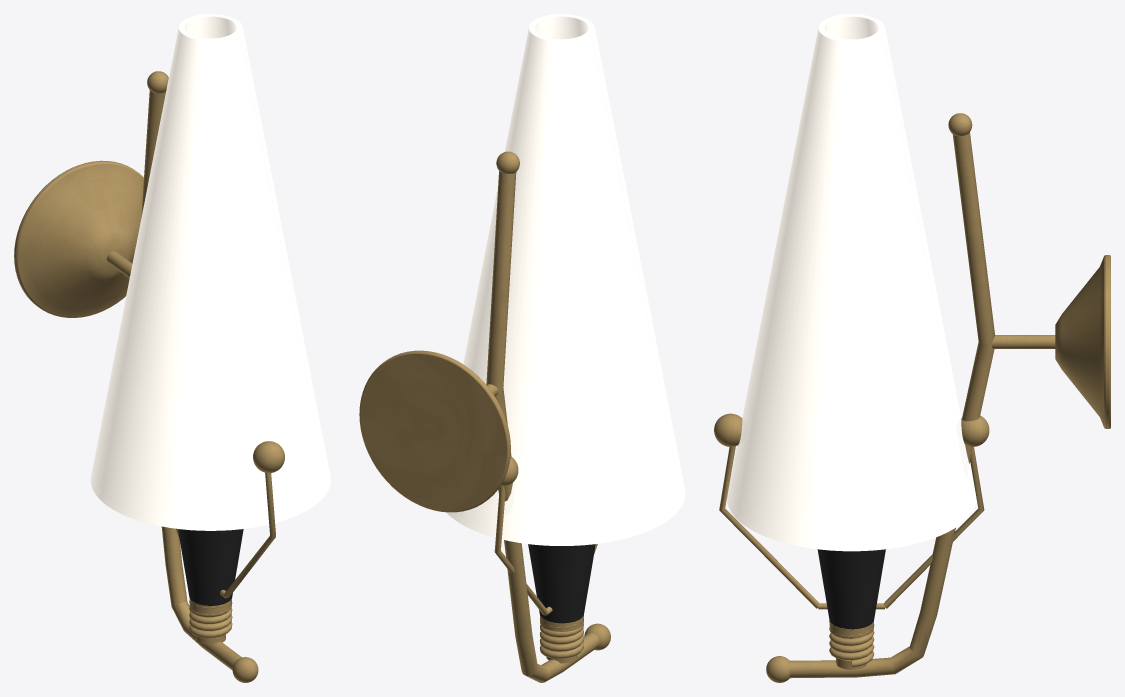
File: cone-wall-light-vintage-style-glass-ambient-wall-sconce.glb
3 views of the same model, side by side, from view 1: azimuth 30°, elevation 25°; view 2: azimuth 150°, elevation 25°; view 3: azimuth 270°, elevation 25° (orthographic). The views are drawn at different scales.
Parts seen in each view (by area): view 1: ConeGlass, Rose, Socket, Arm, Spring, WireFront, BallFront, FootBall; view 2: ConeGlass, Rose, Arm, Socket, Spring, WireBack; view 3: ConeGlass, Arm, Rose, Socket, WireFront, Spring, WireBack, Stud, BallFront, BallBack.
Boxes of the visible parts, box(x1,y1,x2,y2) form: ConeGlass: box(90, 14, 330, 530); Rose: box(14, 160, 143, 317); Socket: box(178, 529, 243, 605); Arm: box(141, 90, 241, 670); Spring: box(189, 599, 232, 637); WireFront: box(224, 472, 275, 598); BallFront: box(253, 441, 284, 472); FootBall: box(232, 657, 258, 682); ConeGlass: box(446, 14, 685, 545); Rose: box(359, 350, 510, 512); Arm: box(486, 171, 599, 682); Socket: box(528, 544, 595, 623); Spring: box(539, 617, 583, 658); WireBack: box(494, 486, 547, 615); ConeGlass: box(727, 14, 976, 551); Arm: box(790, 132, 994, 678); Rose: box(1055, 255, 1110, 428); Socket: box(817, 549, 885, 629); WireFront: box(719, 446, 819, 608); Spring: box(829, 621, 874, 667); WireBack: box(883, 447, 984, 608); Stud: box(992, 335, 1055, 348); BallFront: box(714, 413, 742, 446); BallBack: box(961, 415, 989, 446).
Bounding box in the file's own units: 0.08 × 0.2311 × 0.1272.
Materials: 3 (2 with a texture image).
